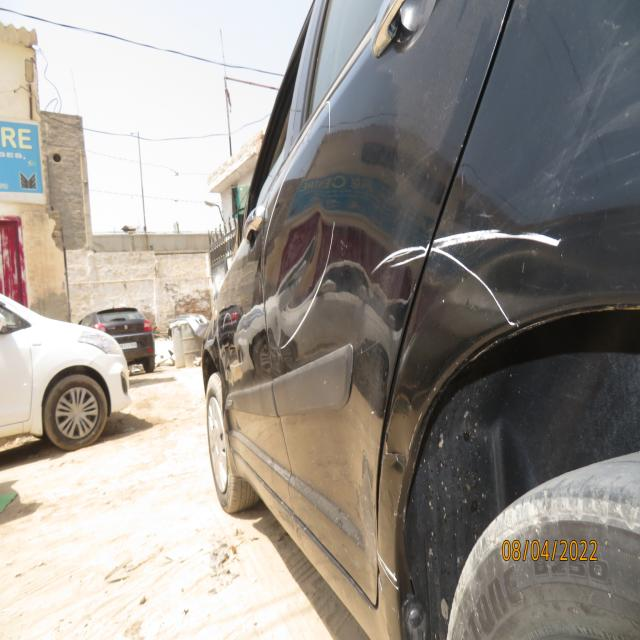damage: (381, 351, 444, 558), (355, 450, 379, 557), (240, 187, 254, 242)
